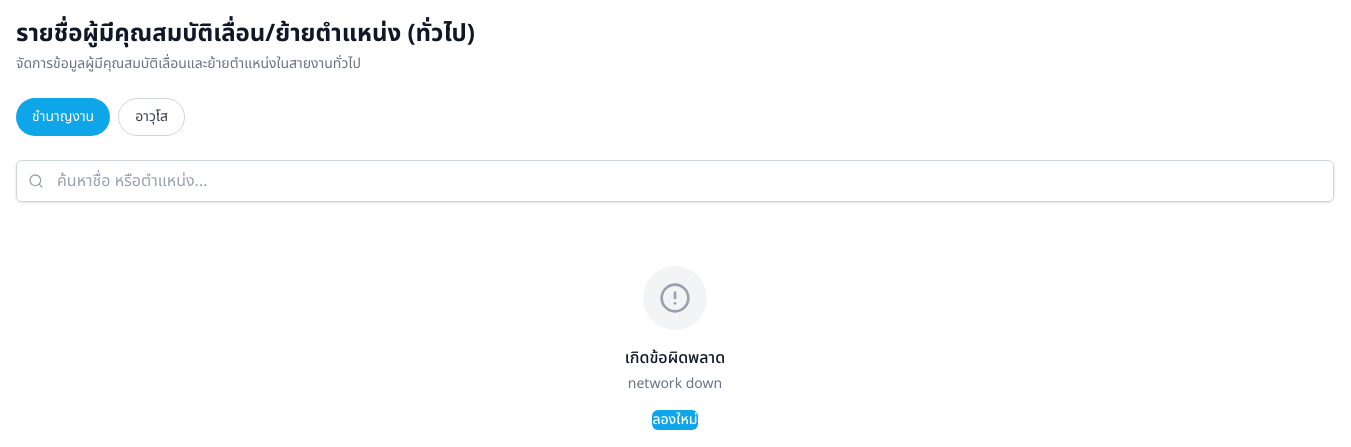
CandidateListsPage › shows error state with retry for sub-tab fetch
# retry button is the first button in the EmptyState slot
What coordinates should you click on to do the following:
click the button "ลองใหม่"
I would click on:
 (675, 420)
Its box is [652, 410, 698, 430].
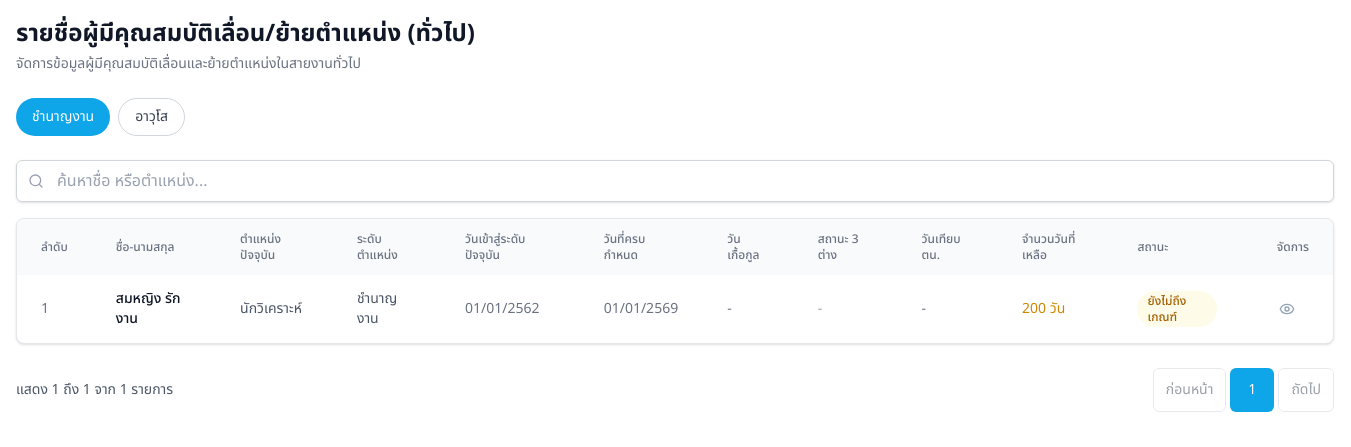
Result: the text "สมหญิง รักงาน" is shown at [92, 275, 216, 343]
